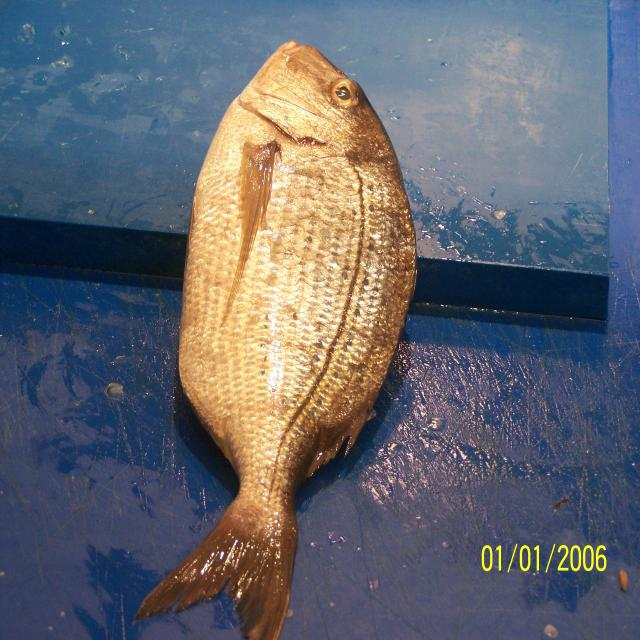Red-Sea-Bream-mercan-: (135, 42, 418, 640)
